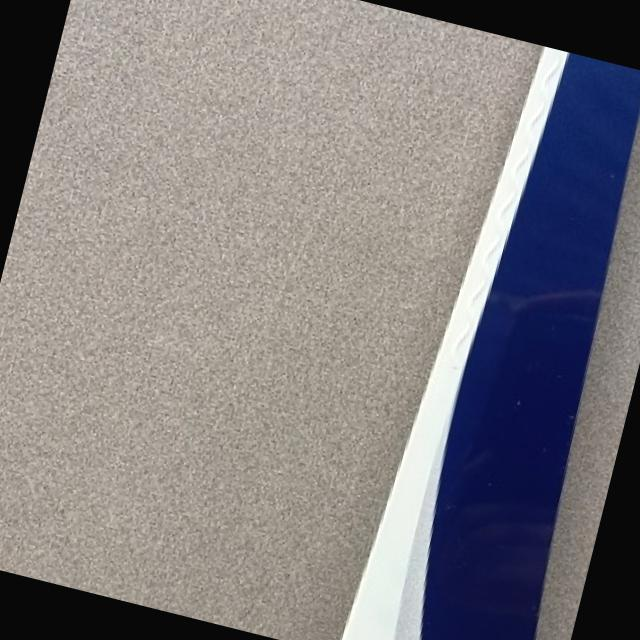healthy: (343, 47, 640, 640)
